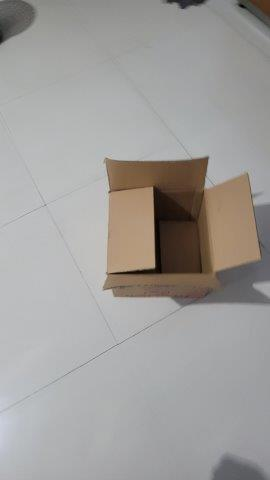kardus: (103, 156, 263, 303)
